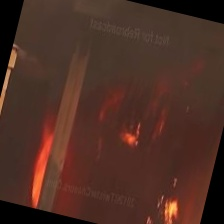smoke: (58, 0, 224, 112)
